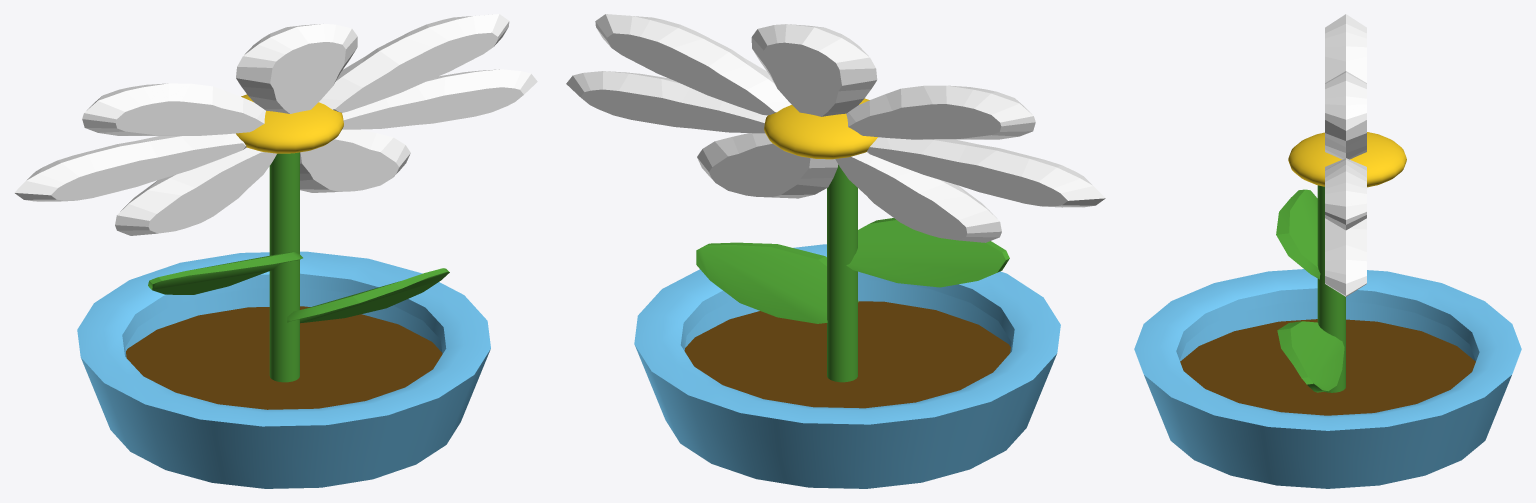
3 renders of one model, left to right at view 1: azimuth 30°, elevation 25°; view 2: azimuth 150°, elevation 25°; view 3: azimuth 270°, elevation 25°, orthographic. The views are drawn at different scales.
Parts seen in each view (by area): view 1: pCylinder1, polySurface11, pCylinder2, pSphere1, polySurface12, polySurface13; view 2: pCylinder1, polySurface11, polySurface12, polySurface13, pCylinder2, pSphere1; view 3: pCylinder1, polySurface11, pSphere1, polySurface12, polySurface13, pCylinder2.
Boxes of the visible parts, bbox=[...] form: pCylinder1: bbox=[77, 251, 490, 488]; polySurface11: bbox=[14, 14, 537, 235]; pCylinder2: bbox=[269, 152, 299, 382]; pSphere1: bbox=[236, 94, 343, 153]; polySurface12: bbox=[287, 268, 449, 323]; polySurface13: bbox=[148, 251, 302, 294]; pCylinder1: bbox=[634, 244, 1060, 488]; polySurface11: bbox=[566, 14, 1105, 242]; polySurface12: bbox=[696, 242, 858, 323]; polySurface13: bbox=[846, 218, 1009, 287]; pCylinder2: bbox=[827, 164, 857, 382]; pSphere1: bbox=[764, 98, 877, 159]; pCylinder1: bbox=[1134, 269, 1521, 488]; polySurface11: bbox=[1325, 14, 1366, 296]; pSphere1: bbox=[1288, 132, 1406, 187]; polySurface12: bbox=[1277, 321, 1344, 392]; polySurface13: bbox=[1276, 189, 1320, 279]; pCylinder2: bbox=[1317, 185, 1345, 392].
Bounding box in the file's own units: 85.27 × 59.46 × 58.76.
